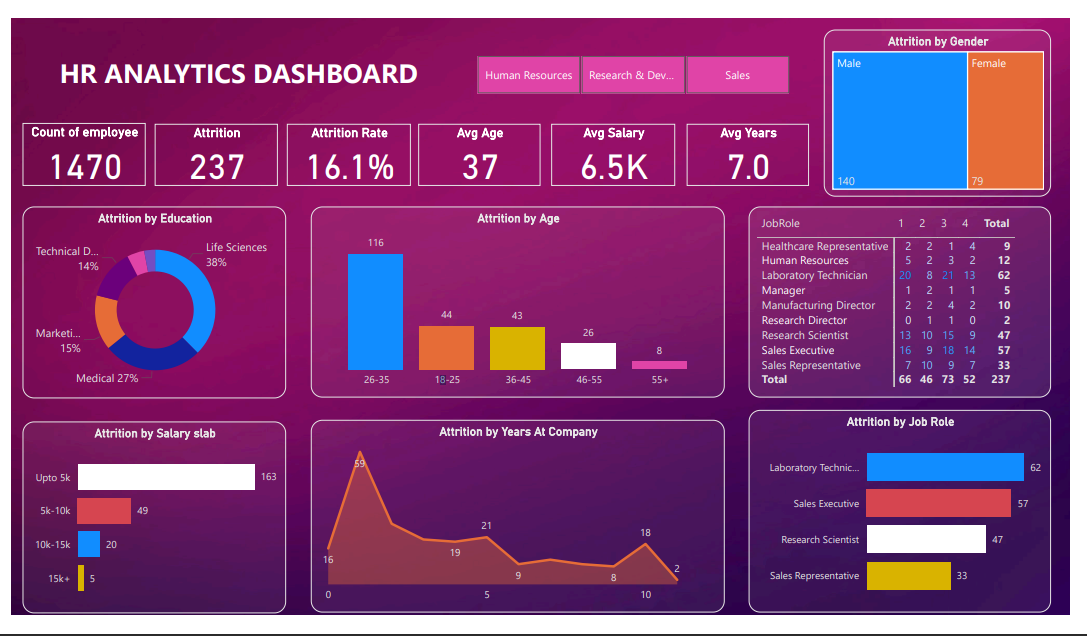

The page's visual inventory and layout, read from the dashboard file:
{"tool":"powerbi","page":{"name":"Page 1","canvas":[1280,720],"ordinal":0},"visuals":[{"type":"card","title":"Count of employee","fields":{"Values":["CountNonNull(HR_Analytics.EmpID)"]},"box":[13.2,126.5,149.1,75.5],"z":0},{"type":"card","title":"Attrition","fields":{"Values":["Sum(HR_Analytics.AttritionCount)"]},"box":[173.3,126.7,148.3,75],"z":1000},{"type":"card","title":"Attrition Rate","fields":{"Values":["HR_Analytics.AttritionRate"]},"box":[333.3,126.7,150,75],"z":2000},{"type":"card","title":"Avg Age","fields":{"Values":["Avg(HR_Analytics.Age)"]},"box":[491.7,126.7,148.3,75],"z":3000},{"type":"card","title":"Avg Salary","fields":{"Values":["Avg(HR_Analytics.MonthlyIncome)"]},"box":[653.3,126.7,150,75],"z":4000},{"type":"card","title":"Avg Years","fields":{"Values":["Avg(HR_Analytics.YearsAtCompany)"]},"box":[816.7,126.7,148.3,75],"z":5000},{"type":"donutChart","title":"Attrition by Education","fields":{"Category":["HR_Analytics.EducationField"],"Y":["Sum(HR_Analytics.AttritionCount)"]},"box":[13.2,226.5,319.1,232.2],"z":6000},{"type":"columnChart","title":"Attrition by Age","fields":{"Category":["HR_Analytics.AgeGroup"],"Y":["Sum(HR_Analytics.AttritionCount)"]},"box":[361.7,226.7,501.7,231.7],"z":7000},{"type":"pivotTable","fields":{"Rows":["HR_Analytics.JobRole"],"Columns":["HR_Analytics.JobSatisfaction"],"Values":["Sum(HR_Analytics.AttritionCount)"]},"box":[891.7,226.7,366.7,231.7],"z":8000},{"type":"barChart","title":"Attrition by Salary slab","fields":{"Category":["HR_Analytics.SalarySlab"],"Y":["Sum(HR_Analytics.AttritionCount)"]},"box":[12.9,487.1,319.4,232.3],"z":9000},{"type":"barChart","title":"Attrition by Job Role","fields":{"Category":["HR_Analytics.JobRole"],"Y":["Sum(HR_Analytics.AttritionCount)"]},"box":[891.7,473.3,366.7,245],"z":10000},{"type":"areaChart","title":"Attrition by Years At Company","fields":{"Category":["HR_Analytics.YearsAtCompany"],"Y":["Sum(HR_Analytics.AttritionCount)"]},"box":[361.7,485,501.7,233.3],"z":11000},{"type":"treemap","title":"Attrition by Gender","fields":{"Group":["HR_Analytics.Gender"],"Values":["Sum(HR_Analytics.AttritionCount)"]},"box":[983.3,13.3,275,201.7],"z":12000},{"type":"slicer","fields":{"Values":["HR_Analytics.Department"]},"box":[538.3,38.3,426.7,58.3],"z":13000},{"type":"textbox","box":[53.3,38.3,485,76.7],"z":14000}]}

Visuals, with their boxes on the page's 1280x720 design canvas (x1, y1, x2, y2). These are canvas units, not pixel positions in the 1087x636 screenshot, which may show the page scaled, cropped or inside an application window:
"Count of employee" card: crop(13, 126, 162, 202)
"Attrition" card: crop(173, 127, 322, 202)
"Attrition Rate" card: crop(333, 127, 483, 202)
"Avg Age" card: crop(492, 127, 640, 202)
"Avg Salary" card: crop(653, 127, 803, 202)
"Avg Years" card: crop(817, 127, 965, 202)
"Attrition by Education" donutChart: crop(13, 226, 332, 459)
"Attrition by Age" columnChart: crop(362, 227, 863, 458)
pivotTable - HR_Analytics.JobRole x HR_Analytics.JobSatisfaction: crop(892, 227, 1258, 458)
"Attrition by Salary slab" barChart: crop(13, 487, 332, 719)
"Attrition by Job Role" barChart: crop(892, 473, 1258, 718)
"Attrition by Years At Company" areaChart: crop(362, 485, 863, 718)
"Attrition by Gender" treemap: crop(983, 13, 1258, 215)
slicer - HR_Analytics.Department: crop(538, 38, 965, 97)
textbox: crop(53, 38, 538, 115)
